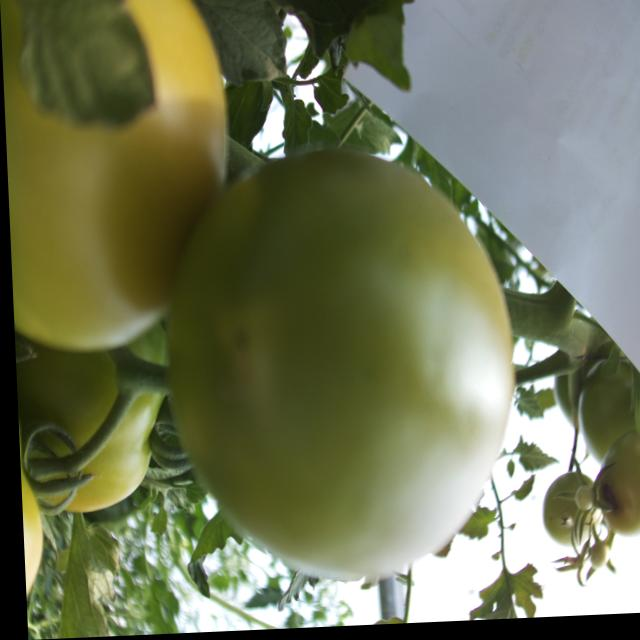yesil: (153, 152, 550, 565)
